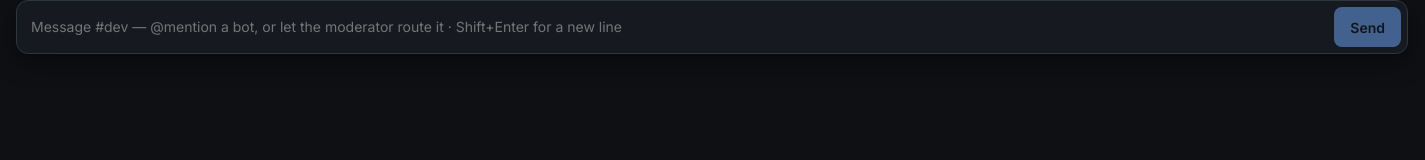
it: Composer › shows @ suggestions above the box and inserts the picked handle
The width and height of the screenshot is (1425, 160).
Later steps or results of the test are not shown.
Type "ask @d" into the text box labelled "Message #dev" at (679, 27), box 31,7 -> 1326,47
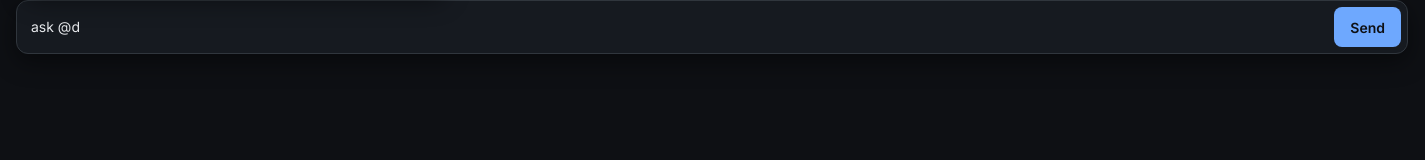
Press Enter
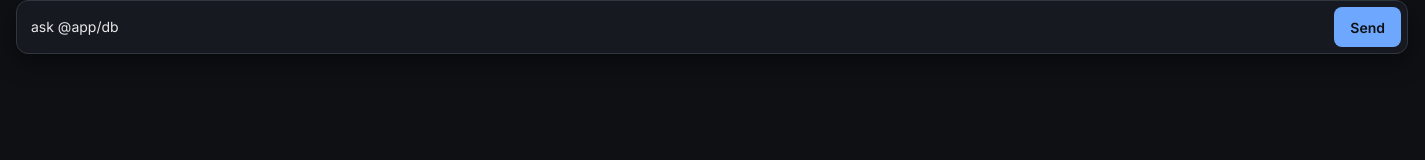
Expected: the text box named "Message #dev" holds "ask @app/db ", 31,7 -> 1326,47
